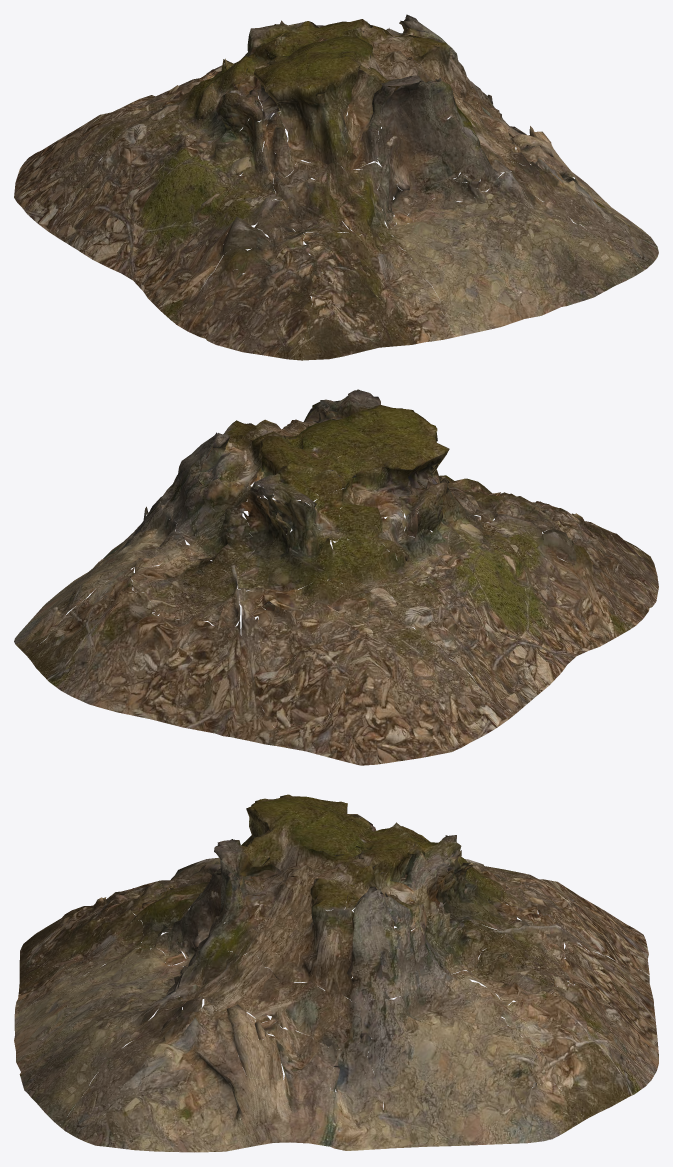
The model's file is tree_stump_01.glb.
The picture shows the model from 3 angles, top to bottom: view 1: azimuth 30°, elevation 25°; view 2: azimuth 150°, elevation 25°; view 3: azimuth 270°, elevation 25°; orthographic projection. The views are drawn at different scales.
Parts seen in each view (by area): view 1: tree_stump_01; view 2: tree_stump_01; view 3: tree_stump_01.
Part boxes in pixels (<box>): tree_stump_01: <box>14,14,658,360</box>; tree_stump_01: <box>14,389,658,765</box>; tree_stump_01: <box>14,794,658,1152</box>.
Size of the model in its own units: 1.42 by 0.5728 by 1.59.
Materials: 1 (1 with a texture image).
